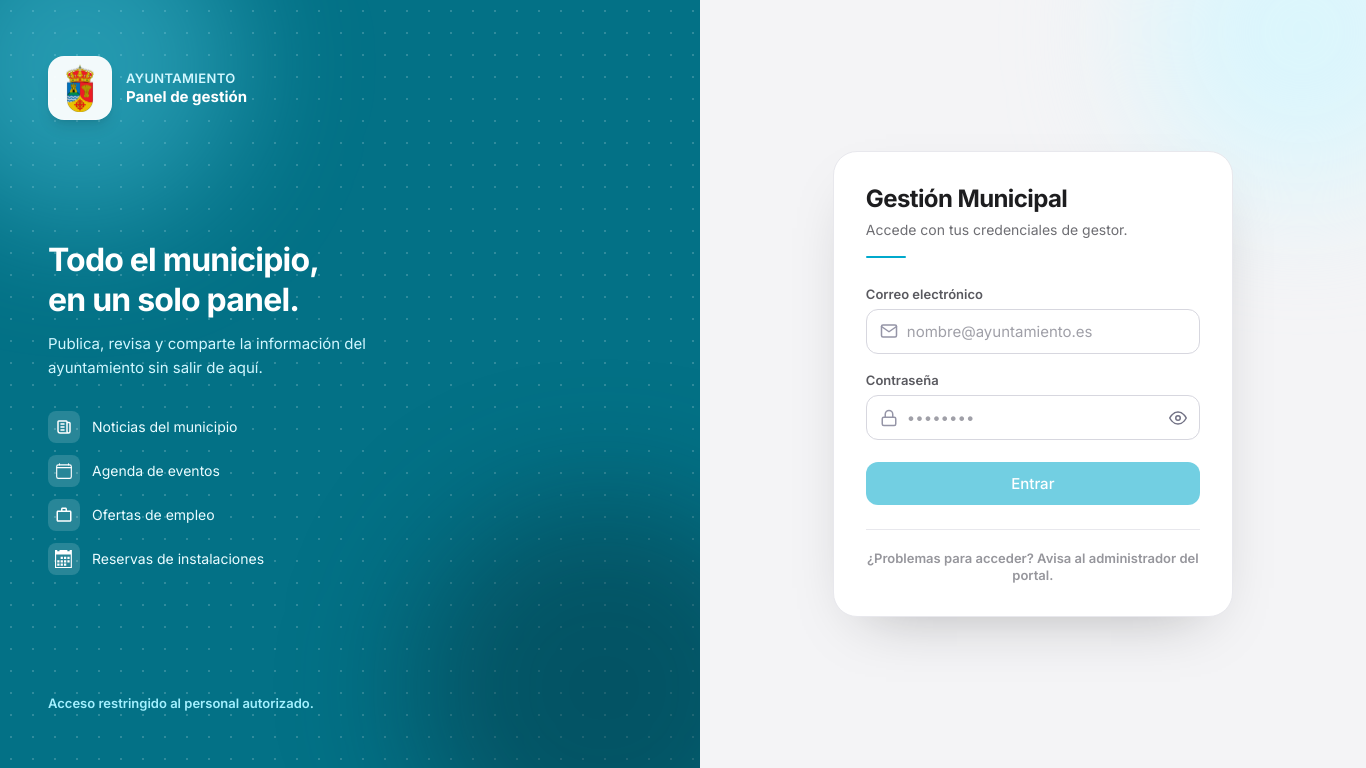
Scenario: Login - estado de carga › muestra Entrando… y deshabilita los controles mientras espera
This screenshot has width=1366, height=768.
Type "plopez@aries.es" into the field labelled "Correo electrónico". click: (1033, 331)
box: [866, 309, 1200, 354]
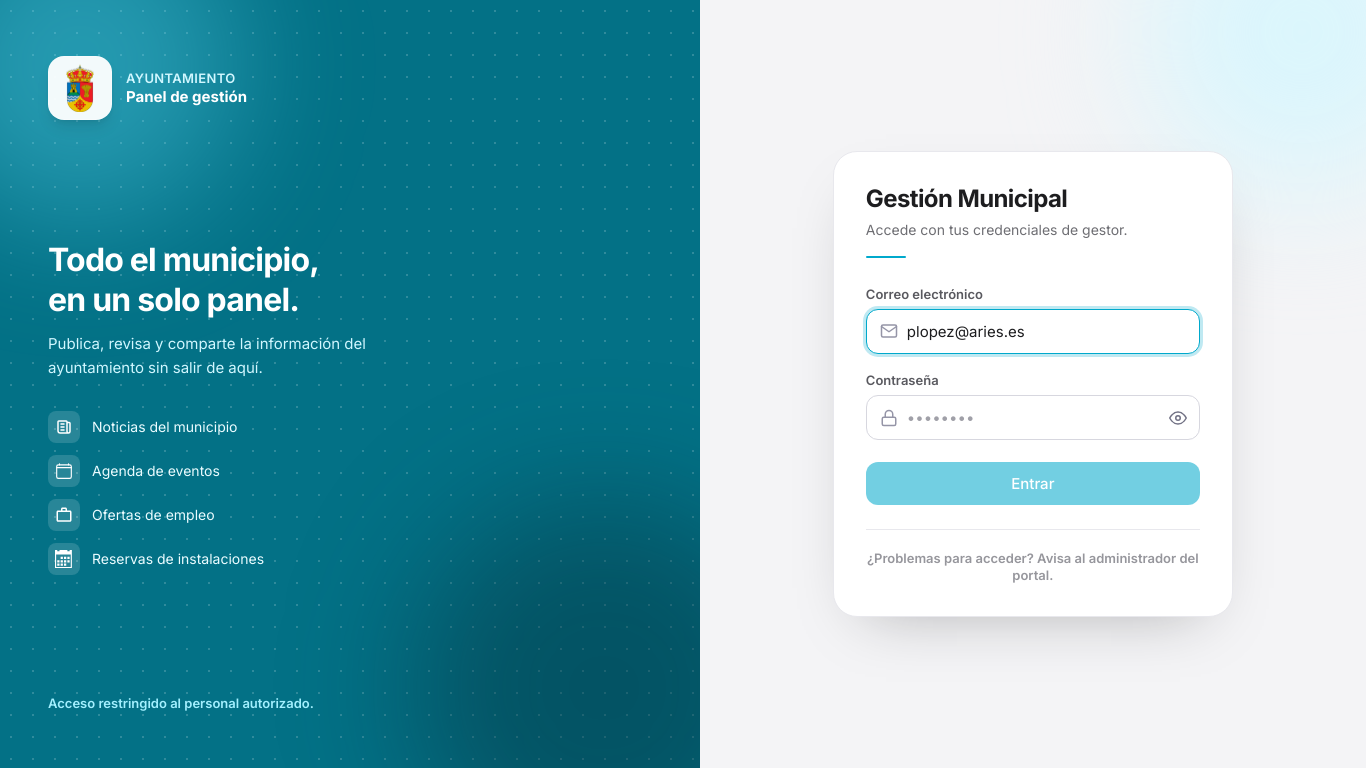
Type "secreto" into the password field labelled "Contraseña". click: (1033, 418)
box: [866, 395, 1200, 440]
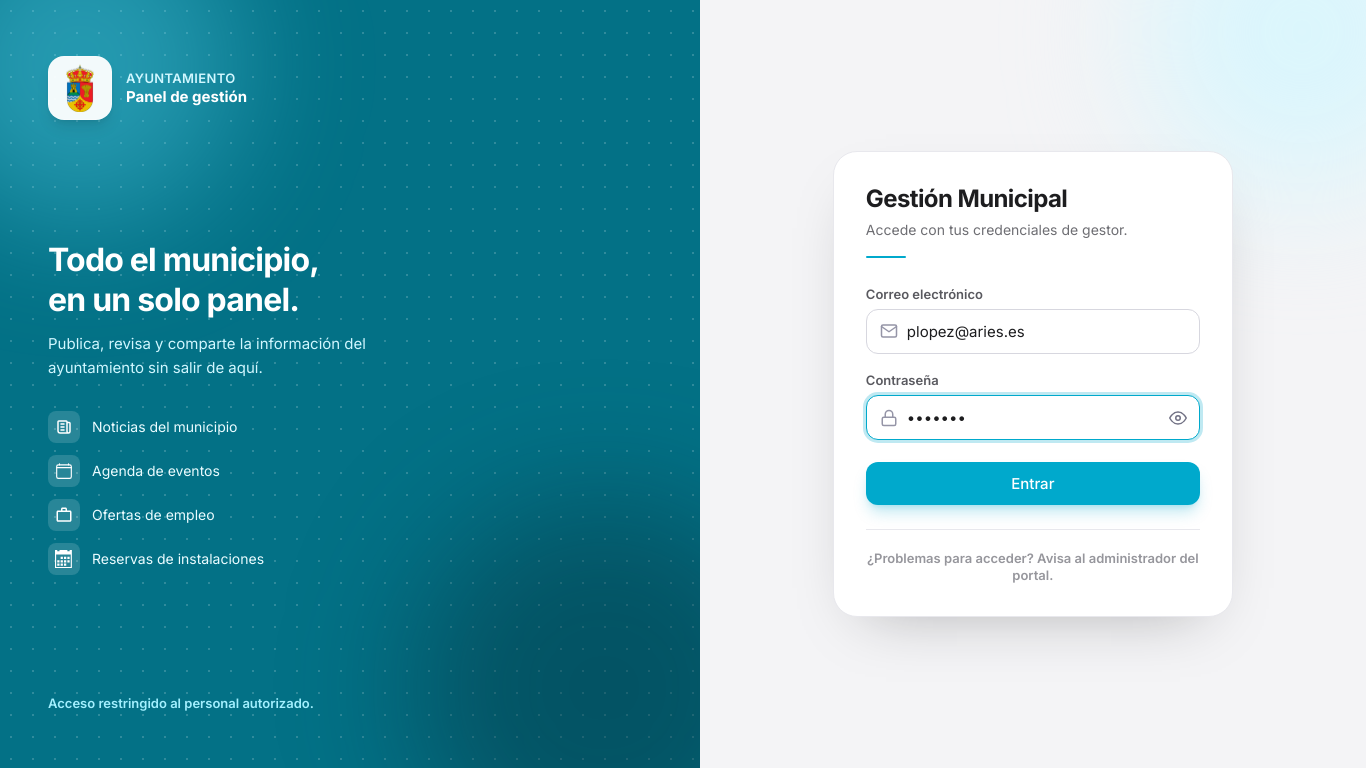
Click the button "Entrar". click: (1033, 484)
box: [866, 462, 1200, 505]
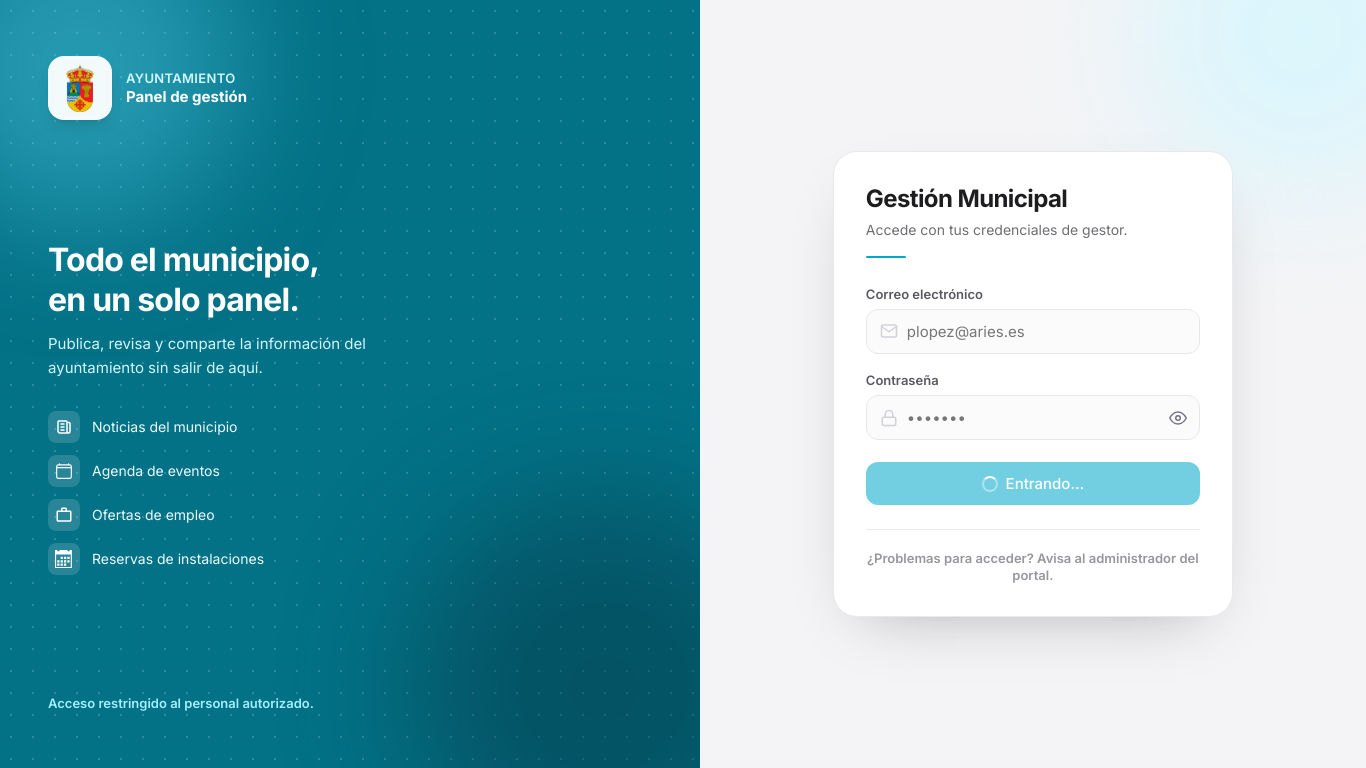
Expected: the field labelled "Correo electrónico" is disabled, [866, 309, 1200, 354]
Expected: the password field labelled "Contraseña" is disabled, [866, 395, 1200, 440]
Expected: the button "Entrando…" is disabled, [866, 462, 1200, 505]
